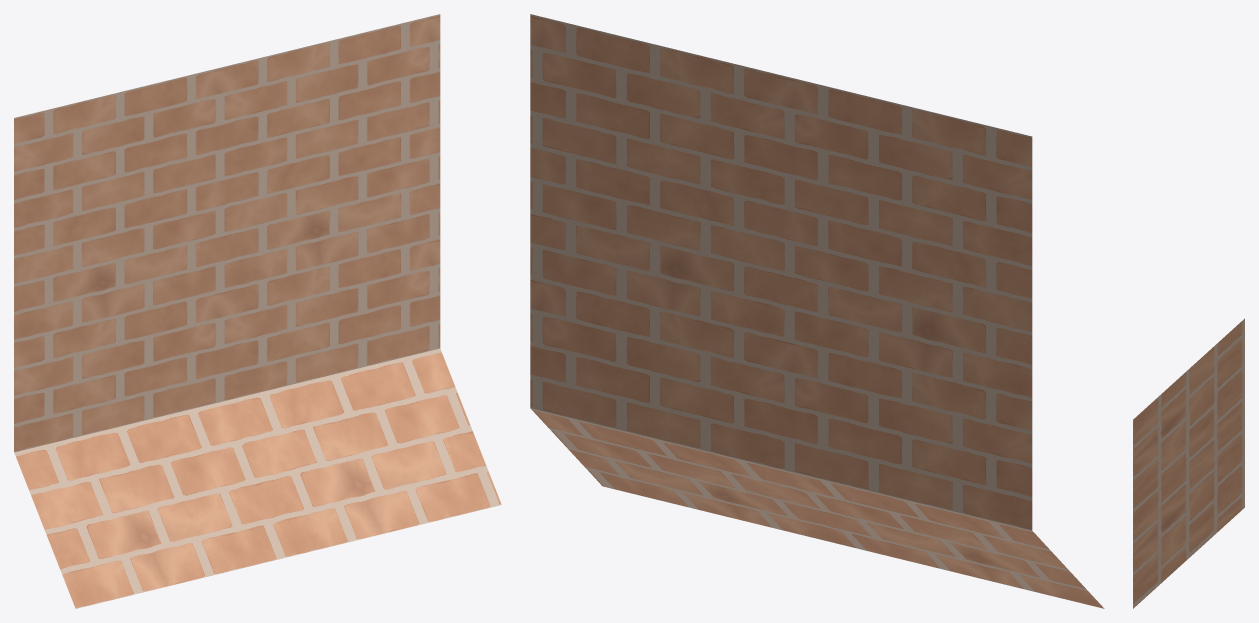
File: Bot_Temp_Wall_Str.fbx
3 renders of one model, left to right at view 1: azimuth 30°, elevation 25°; view 2: azimuth 150°, elevation 25°; view 3: azimuth 270°, elevation 25°, orthographic. The views are drawn at different scales.
Visible parts, largest first — view 1: Bot_Temp_Wall_Str; view 2: Bot_Temp_Wall_Str; view 3: Bot_Temp_Wall_Str.
Part boxes in pixels (x1,y1,x2,y2): Bot_Temp_Wall_Str: (14,14,501,608); Bot_Temp_Wall_Str: (530,14,1104,608); Bot_Temp_Wall_Str: (1133,318,1244,608).
Size of the model in its own units: 100 by 100 by 25.
Materials: 1 (1 with a texture image).
